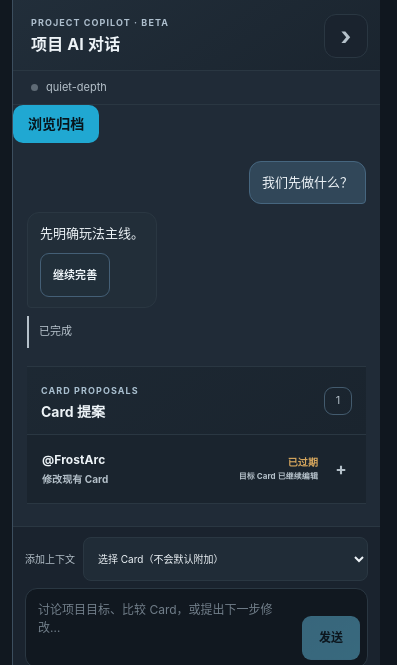
ProjectConversationDrawer › 过期提案的重做只填入可编辑草稿，不自动发送
Click the button "@FrostArc 修改现有 Card 已过期 目标 Card 已继续编辑 +". click: {"x": 80, "y": 459}
box: left=27, top=435, right=366, bottom=503
(page scrolled)
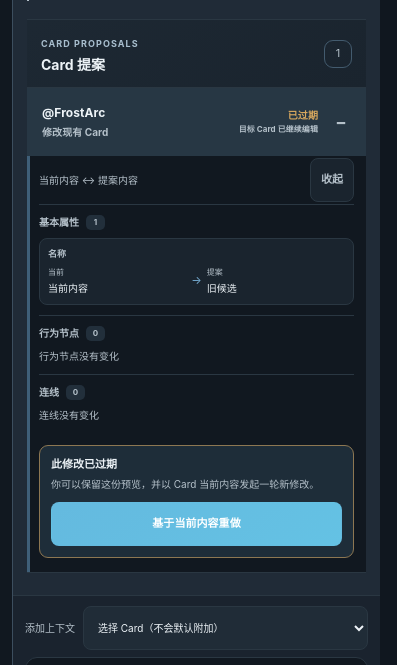
Click the button "基于当前内容重做". click: {"x": 196, "y": 524}
box: left=51, top=502, right=342, bottom=546
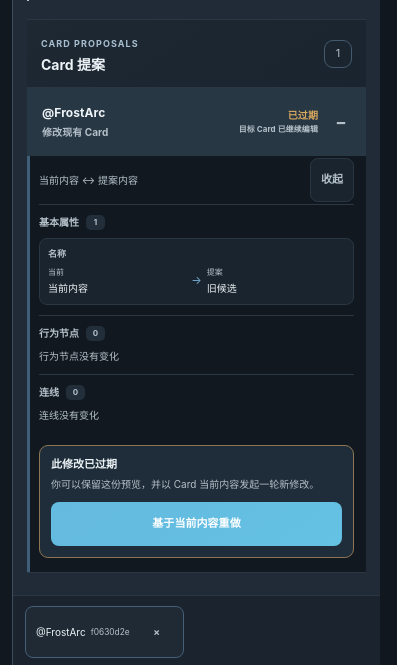
Check: the element named "已添加的 Card 上下文" shows "@FrostArc", box left=25, top=606, right=184, bottom=658
